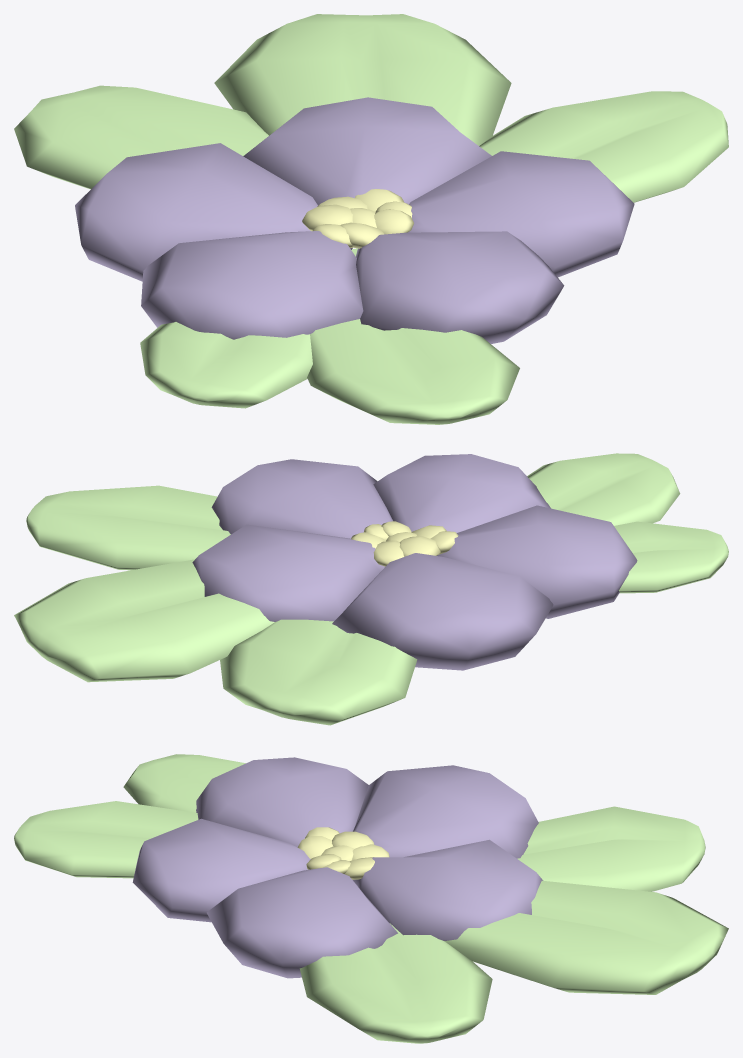
The model's file is Flower5_UV.fbx.
The picture shows the model from 3 angles, top to bottom: view 1: azimuth 30°, elevation 25°; view 2: azimuth 150°, elevation 25°; view 3: azimuth 270°, elevation 25°; orthographic projection. The views are drawn at different scales.
Visible parts, largest first — view 1: Flower5_UV; view 2: Flower5_UV; view 3: Flower5_UV.
Part boxes in pixels (x1,y1,x2,y2): Flower5_UV: (14,14,728,424); Flower5_UV: (14,453,728,725); Flower5_UV: (14,754,728,1043).
Bounding box in the file's own units: 1.36 × 0.176 × 1.48.
